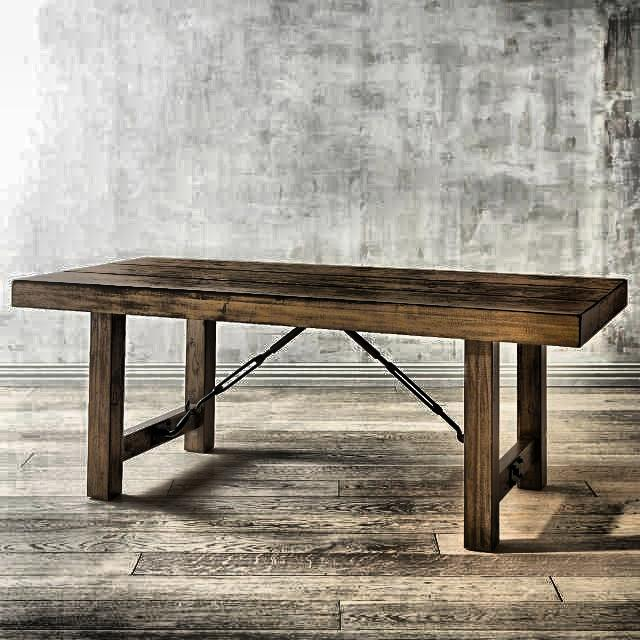mesa: (2, 238, 626, 572)
